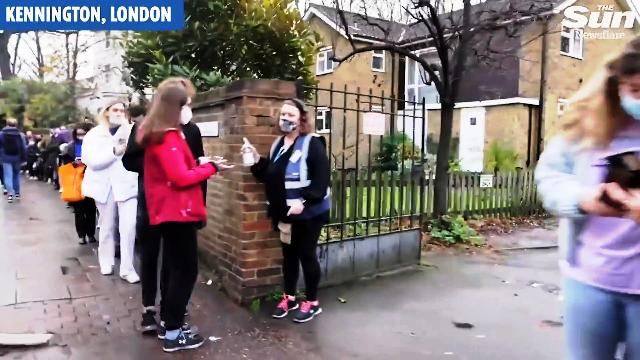berdiri: (244, 89, 346, 331), (132, 83, 212, 351), (76, 88, 140, 286)
